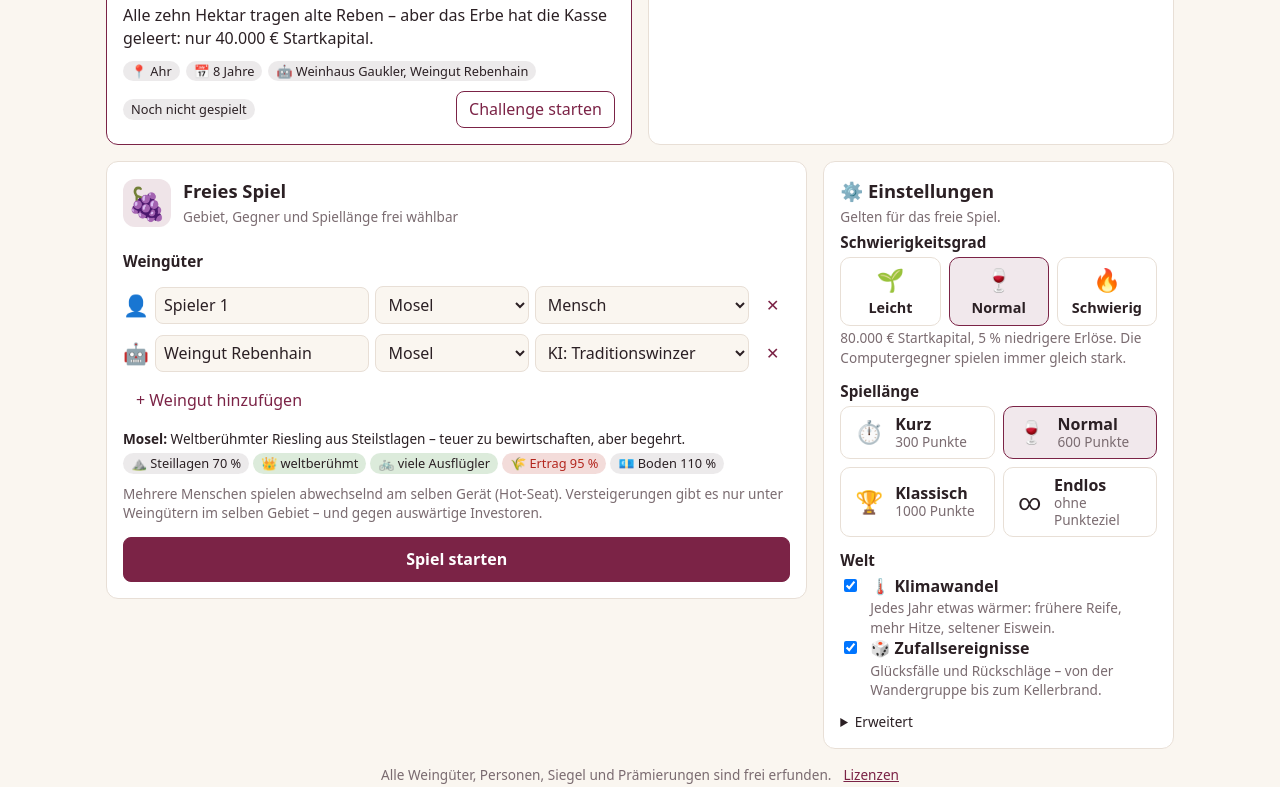
Test: Bedienung › das Endlosspiel startet ohne Punkteziel
The image size is (1280, 787).
(page scrolled)
Click the radio button named "length". click: (1080, 502)
box: [1003, 467, 1157, 537]
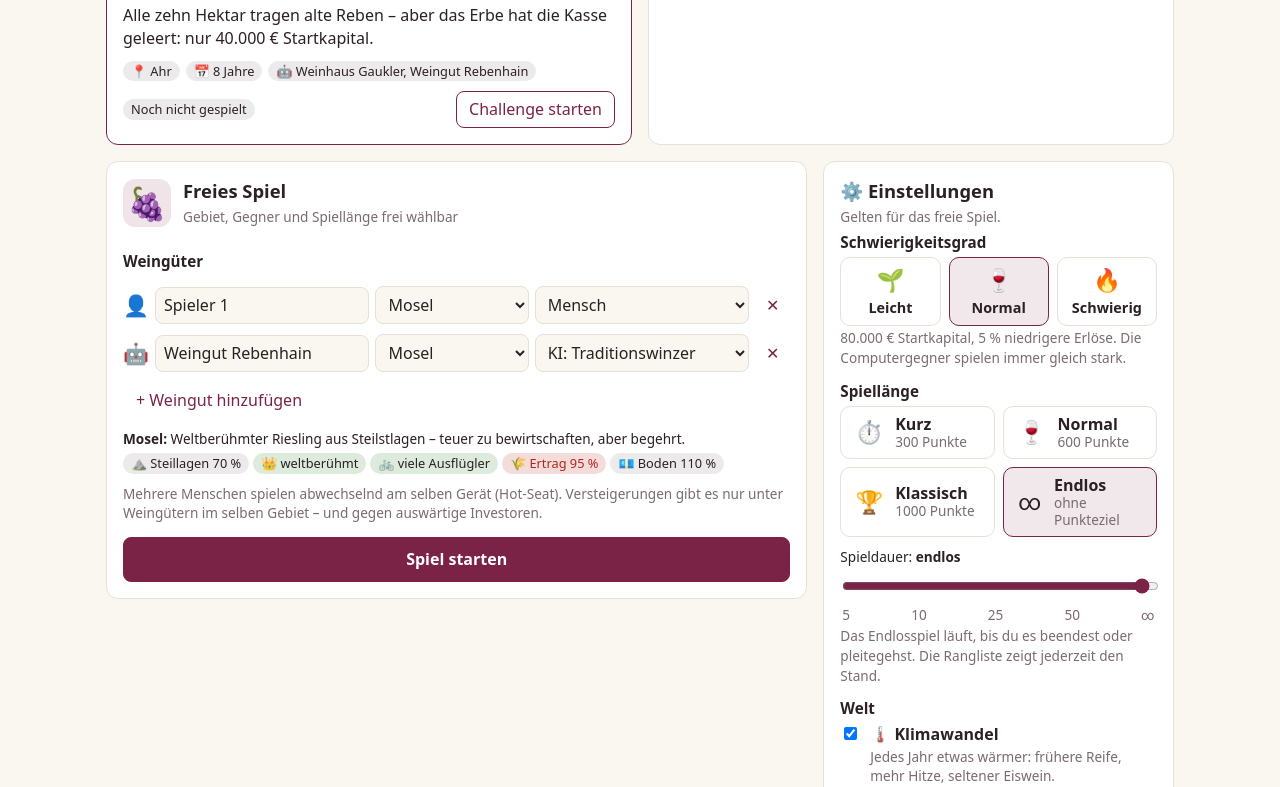
Click the button "Spiel starten". click: (457, 560)
box: [123, 537, 790, 582]
(page scrolled)
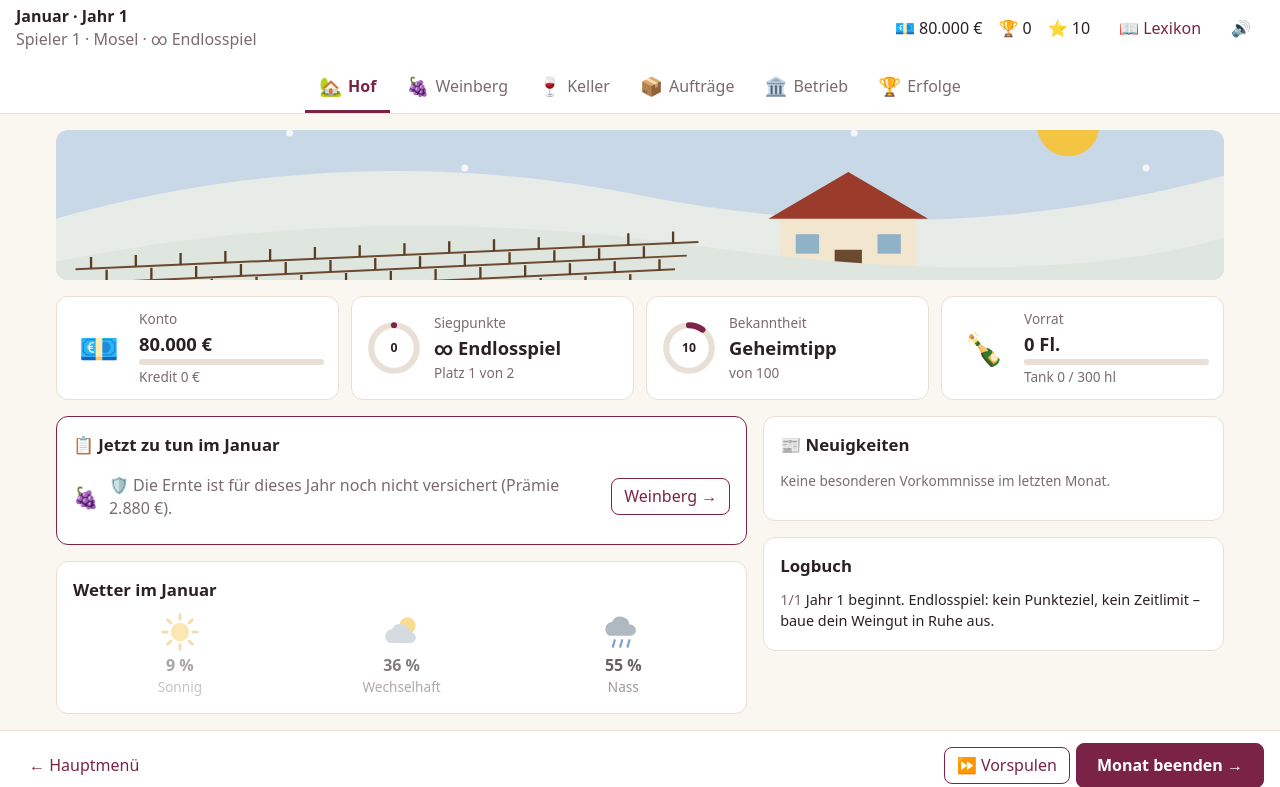
Result: the text "∞ Endlosspiel" is shown at [16, 28, 257, 50]
